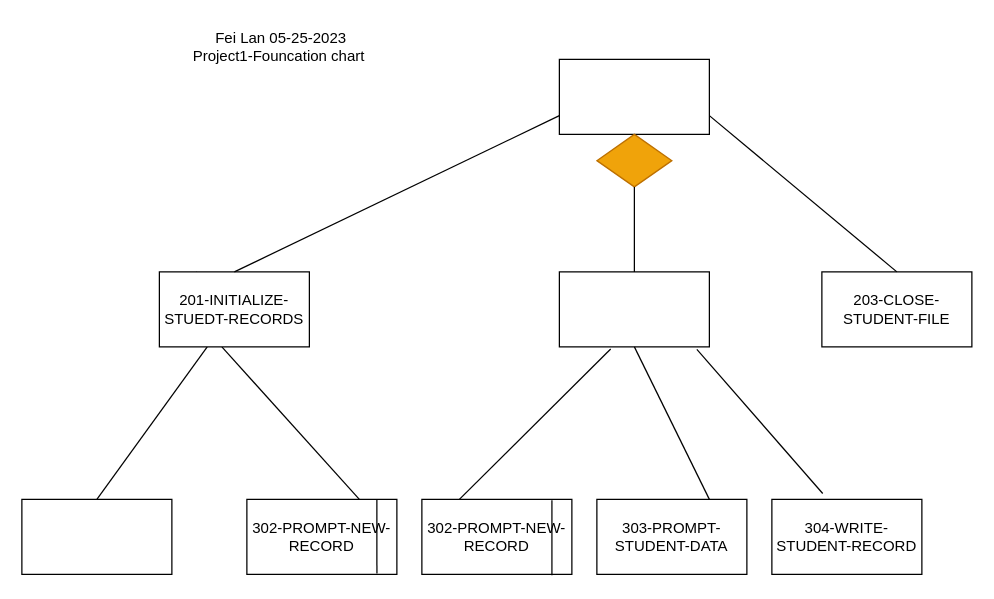
The diagram is 994 pixels wide and 599 high, and some of its shapes have lost their labels. The centre of each missing label's shape, as x and y in pixels:
"100-CREATE-STUDENT-RECORDS" belongs at [633,96].
"202-CREATE-STUDENT-RECORDS" belongs at [633,309].
"301-OPEN-STUDENT-FILE" belongs at [96,536].
